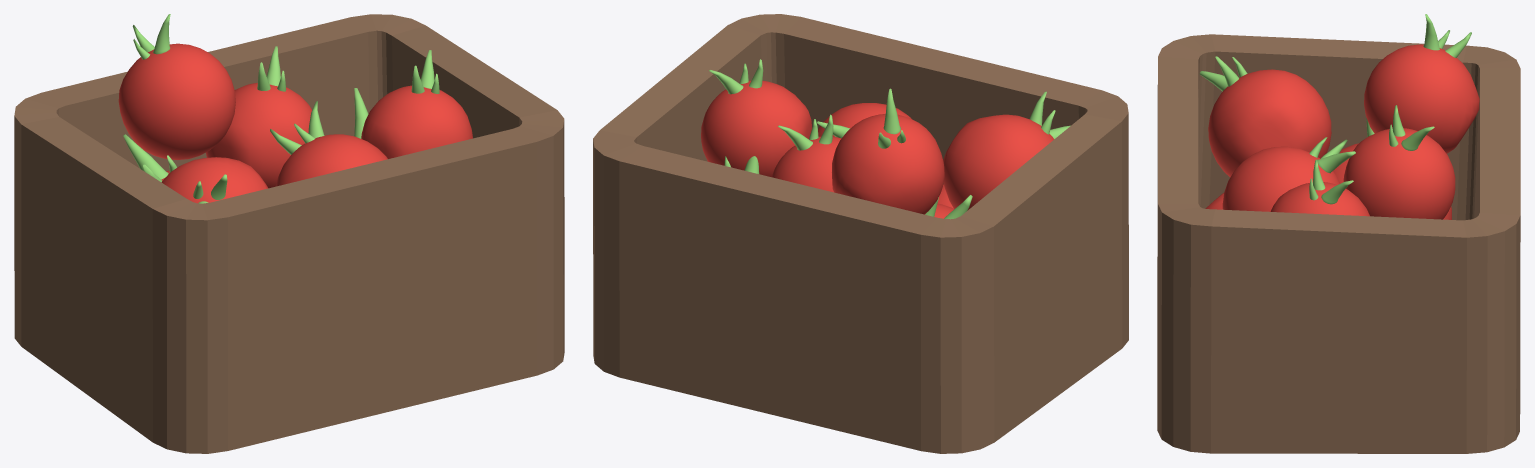
Rendered from TomatoBoxBackFilled.fbx.
The picture shows the model from 3 angles, left to right: view 1: azimuth 30°, elevation 25°; view 2: azimuth 150°, elevation 25°; view 3: azimuth 270°, elevation 25°; orthographic projection. The views are drawn at different scales.
Visible parts, largest first — view 1: FrontBox01.001, FrontBox03.025, FrontBox03.022, FrontBox03.026, FrontBox03.020, FrontBox03.024, TomatoGreens.138; view 2: FrontBox01.001, FrontBox03.025, FrontBox03.026, FrontBox03.024, FrontBox03.022, FrontBox03.020; view 3: FrontBox01.001, FrontBox03.024, FrontBox03.025, FrontBox03.022, FrontBox03.020, FrontBox03.026, TomatoGreens.144, TomatoGreens.150, TomatoGreens.156.
Part boxes in pixels (x1=…): FrontBox01.001: x1=14, y1=14, x2=564, y2=453; FrontBox03.025: x1=118, y1=43, x2=235, y2=159; FrontBox03.022: x1=206, y1=83, x2=311, y2=188; FrontBox03.026: x1=361, y1=85, x2=472, y2=158; FrontBox03.020: x1=276, y1=134, x2=387, y2=186; FrontBox03.024: x1=161, y1=157, x2=268, y2=203; TomatoGreens.138: x1=123, y1=134, x2=168, y2=179; FrontBox01.001: x1=593, y1=14, x2=1128, y2=453; FrontBox03.025: x1=832, y1=114, x2=944, y2=214; FrontBox03.026: x1=701, y1=80, x2=812, y2=177; FrontBox03.024: x1=943, y1=114, x2=1054, y2=210; FrontBox03.022: x1=772, y1=136, x2=841, y2=192; FrontBox03.020: x1=818, y1=103, x2=911, y2=136; FrontBox01.001: x1=1157, y1=34, x2=1520, y2=453; FrontBox03.024: x1=1208, y1=69, x2=1331, y2=177; FrontBox03.025: x1=1364, y1=44, x2=1479, y2=153; FrontBox03.022: x1=1343, y1=128, x2=1455, y2=219; FrontBox03.020: x1=1222, y1=146, x2=1339, y2=211; FrontBox03.026: x1=1270, y1=182, x2=1369, y2=216; TomatoGreens.144: x1=1317, y1=151, x2=1355, y2=173; TomatoGreens.150: x1=1401, y1=126, x2=1434, y2=150; TomatoGreens.156: x1=1423, y1=14, x2=1439, y2=50.
Bounding box in the file's own units: 93.85 × 70.21 × 74.95.
